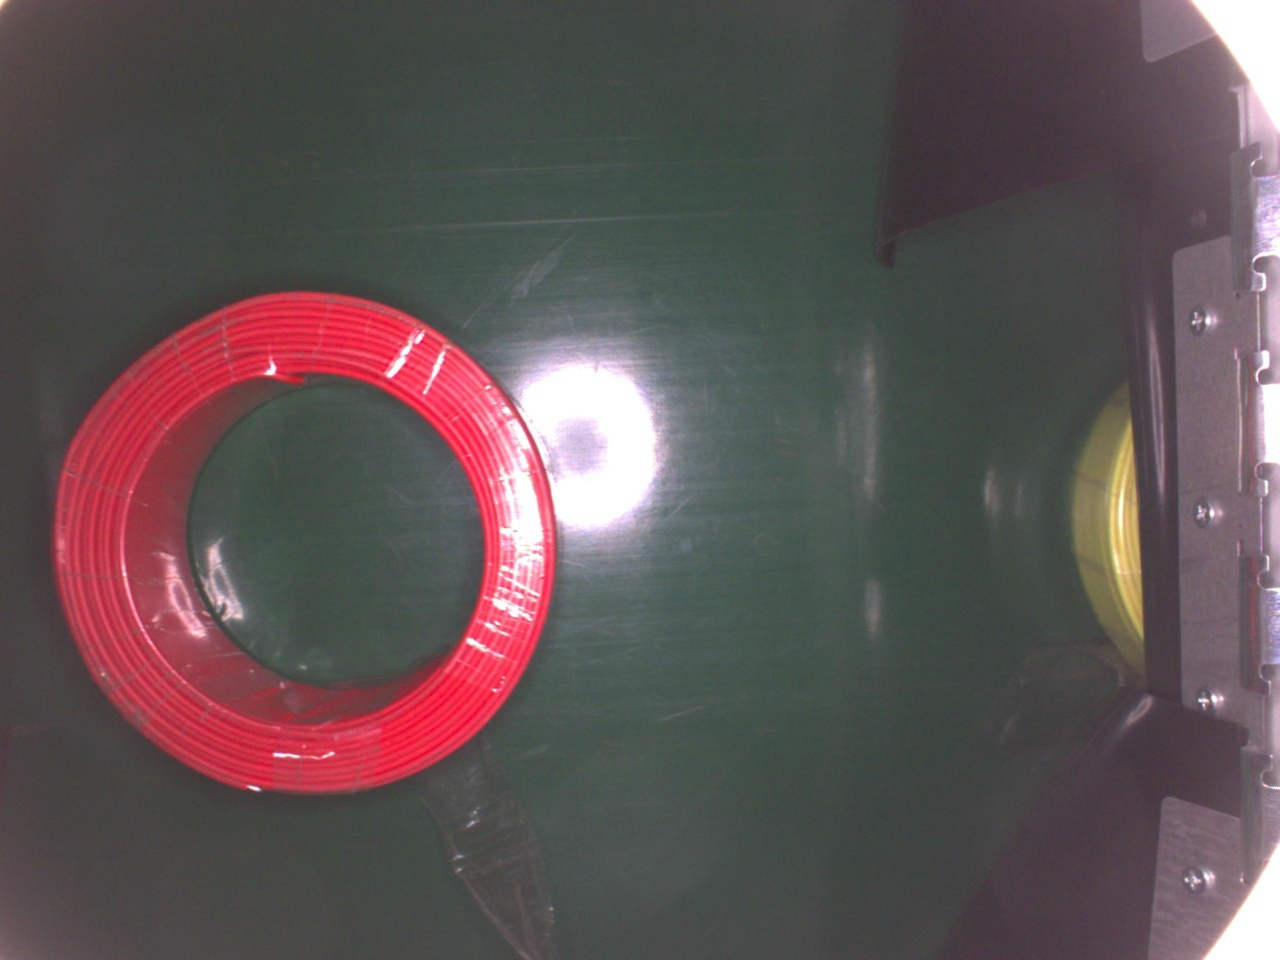red: (53, 288, 563, 800)
